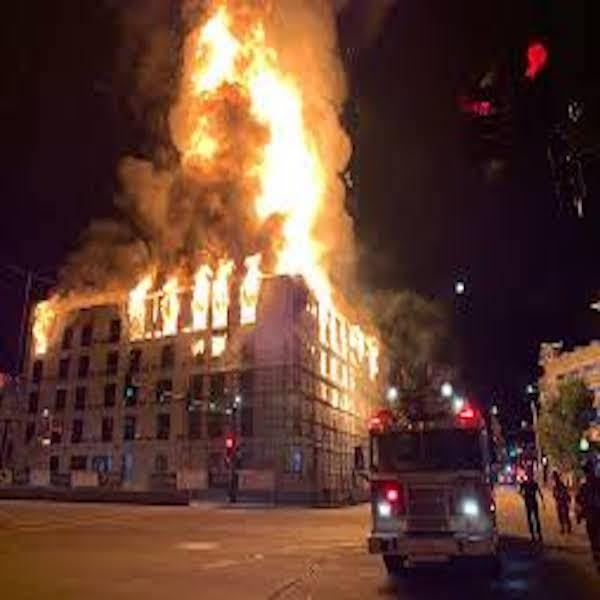fire: (189, 3, 348, 249), (126, 250, 264, 335), (321, 299, 396, 380), (64, 247, 142, 306), (277, 251, 360, 294), (32, 299, 66, 354)
